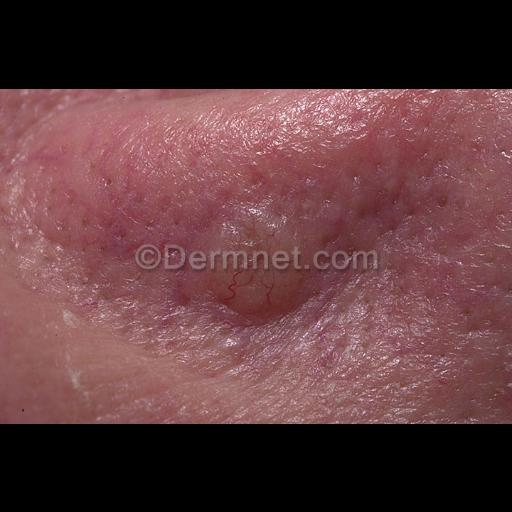Skin_Lesion: (181, 214, 319, 330)
